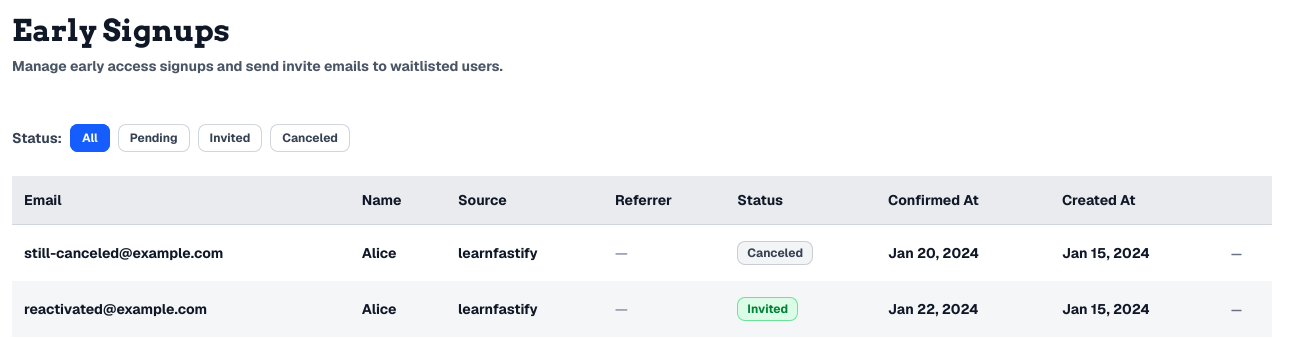
Test: AdminEarlySignupsPage › shows reactivated signup as invited only after unsubscribedAt is cleared
The image size is (1289, 338).
Step 1. Click the button "Invited" → (230, 138), box [198,124,262,152]
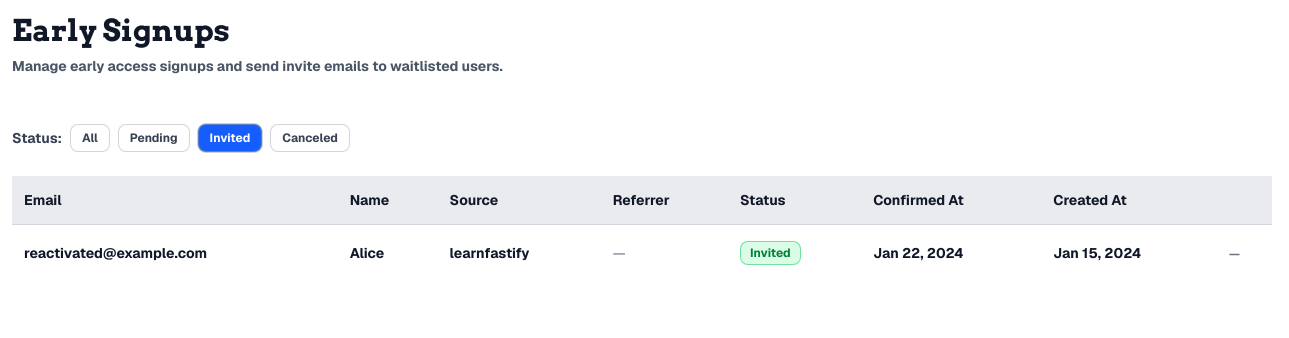
Expected: the text "reactivated@example.com" is shown, [12,224,338,281]
Now the text "still-canceled@example.com" is gone
